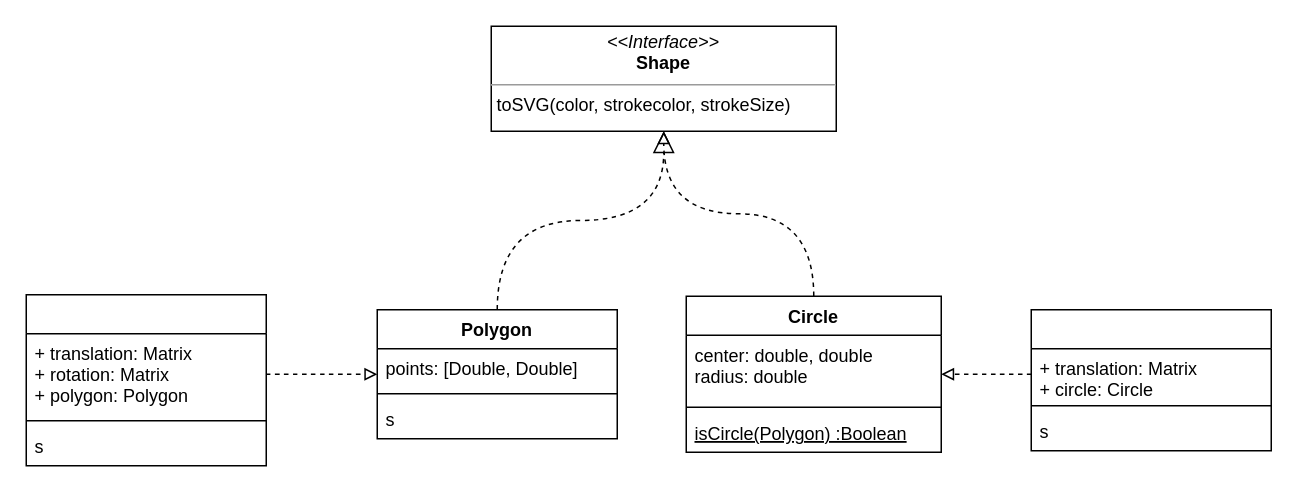
Image size: 1298x497. Some labels were removed from this diagram. Here are the shapes that lost their labels. From the top down, the box of each, then its label:
(25, 293, 266, 466): PolygonClone
(1030, 308, 1271, 451): CircleClone
